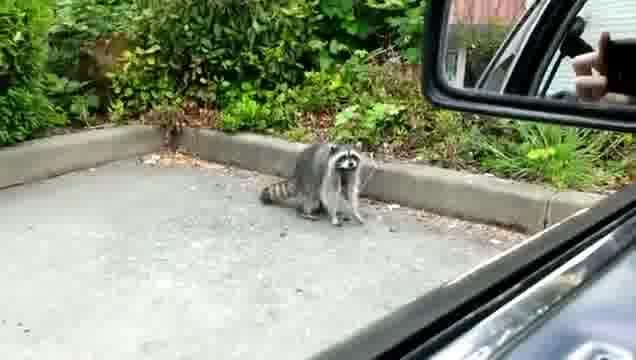raccoon: (256, 137, 374, 230)
